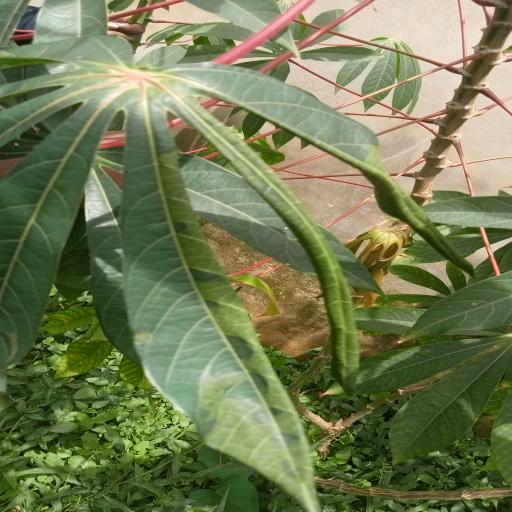Cassava_Bacterial_Disease: (5, 36, 452, 508)
